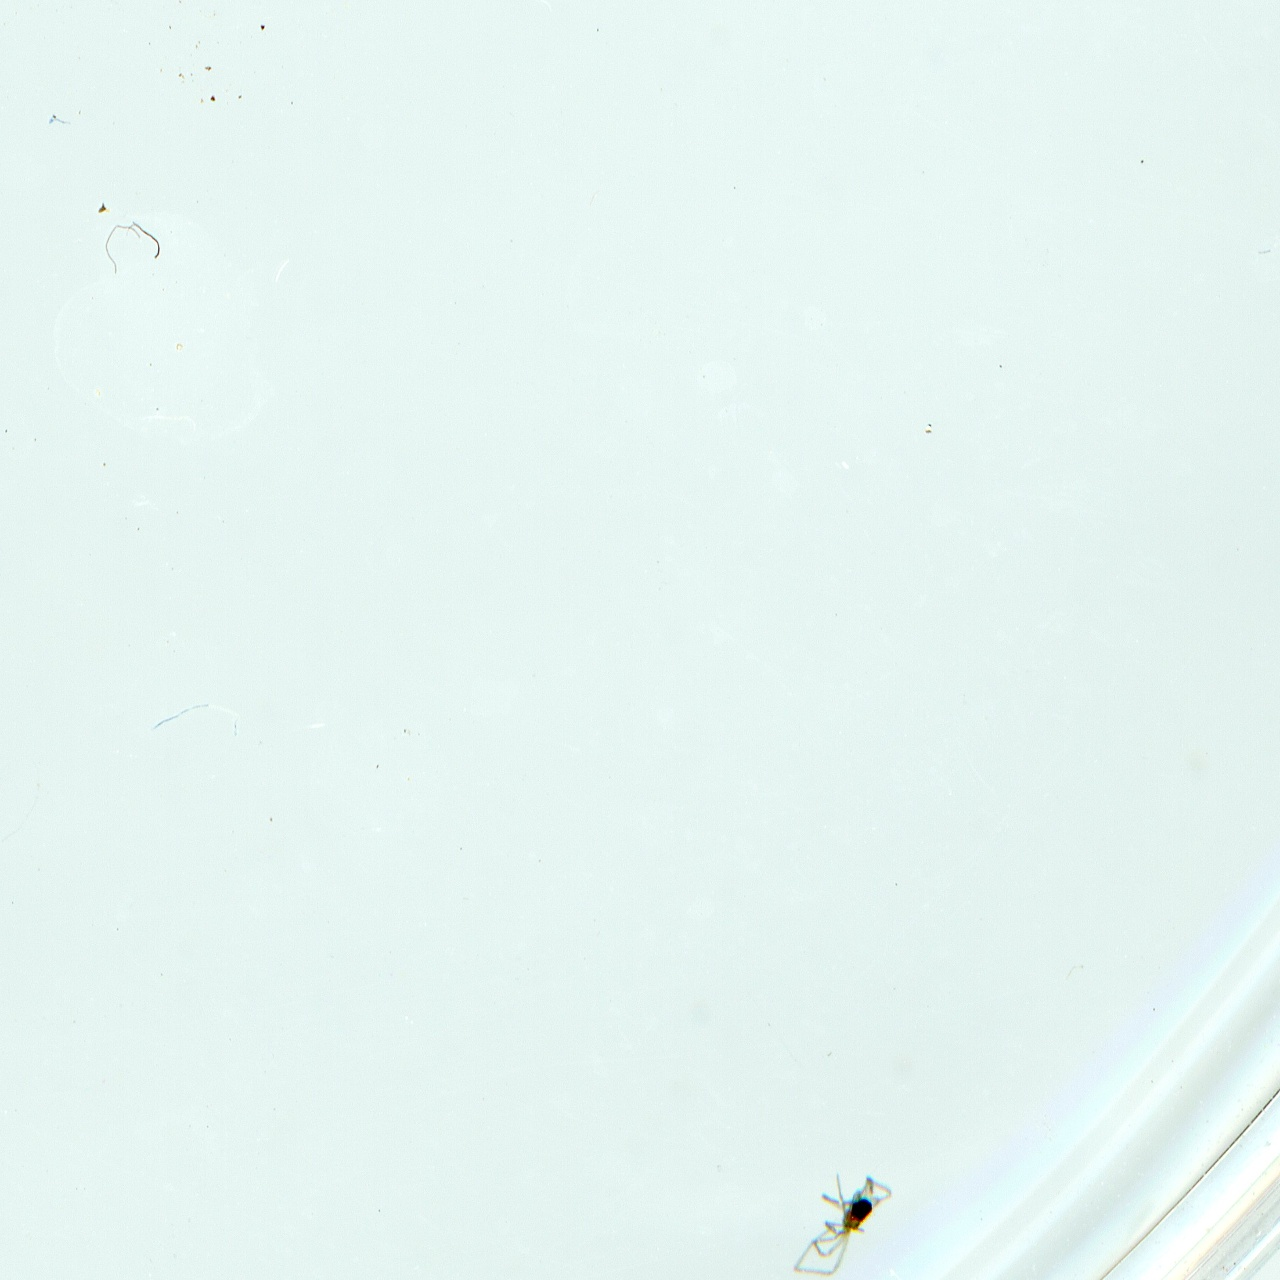arthropod: (775, 1152, 900, 1280)
